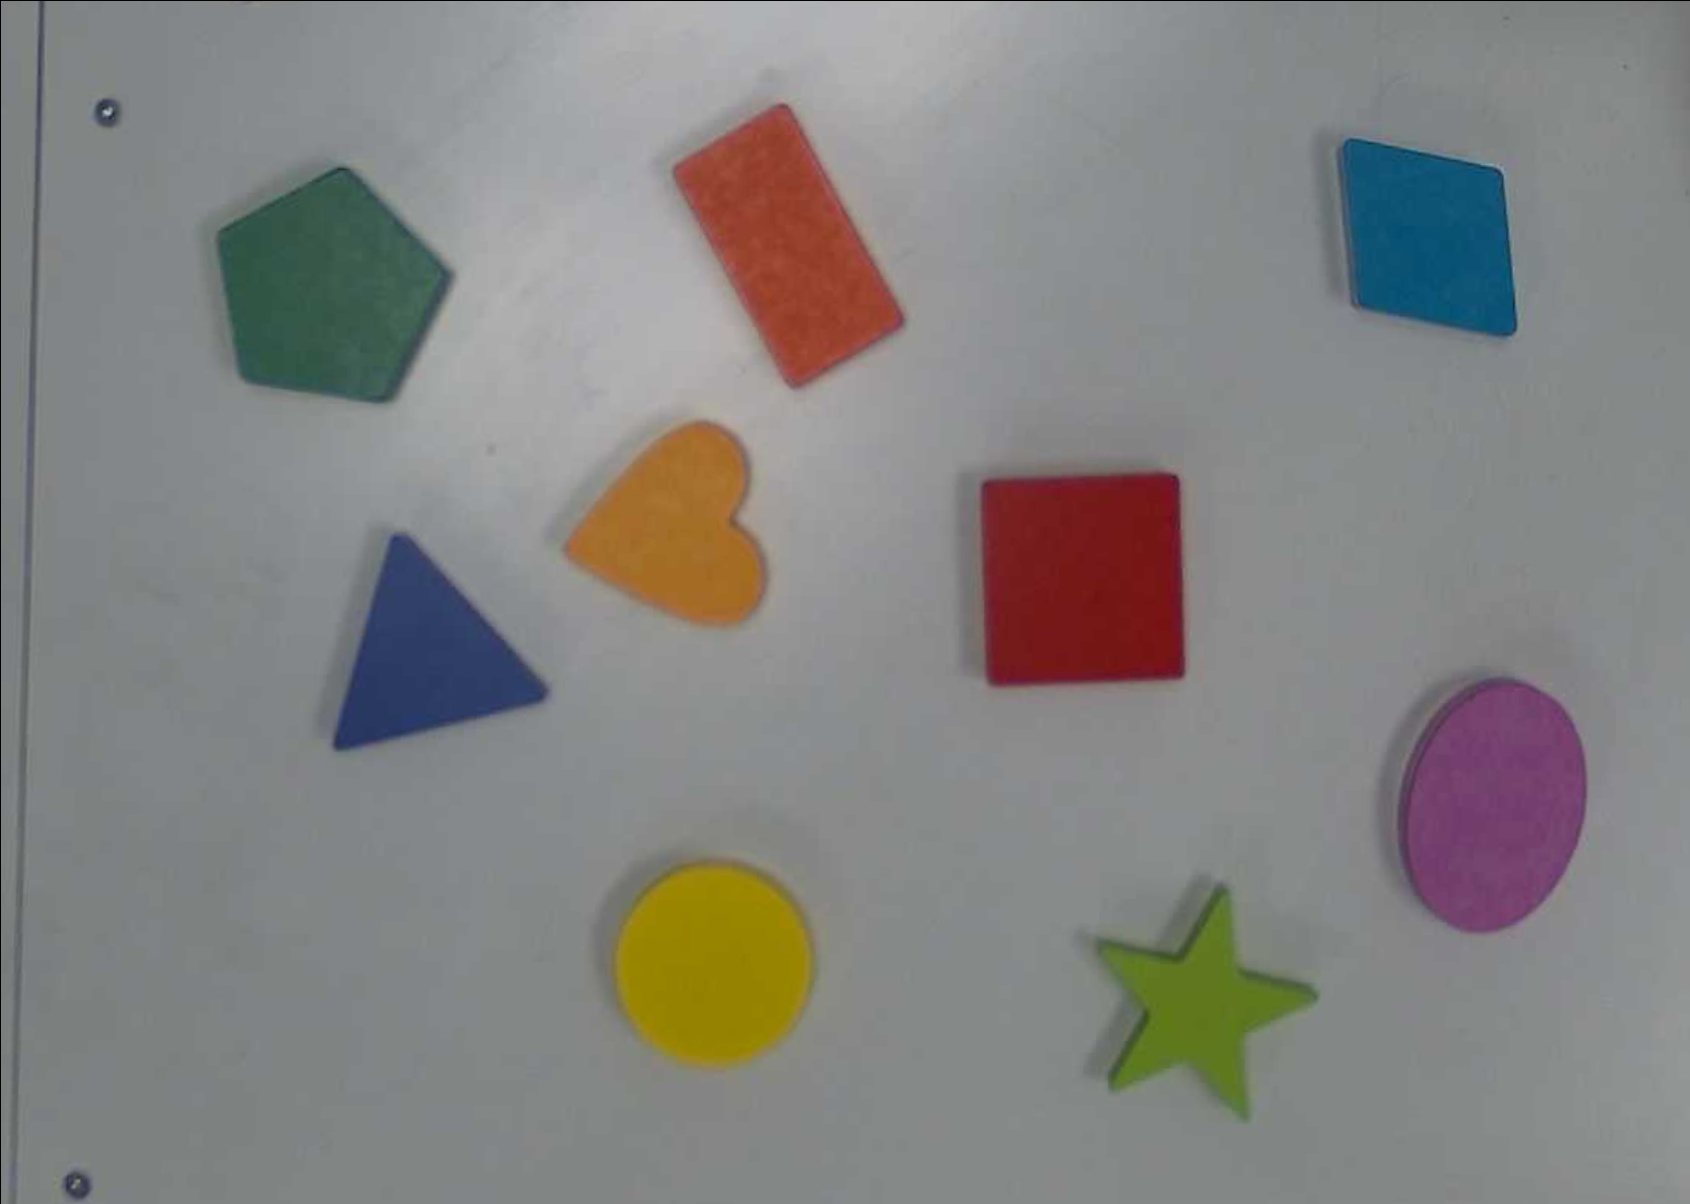Circle: (614, 863, 812, 1070)
Ellipse: (1403, 680, 1587, 934)
Heart: (560, 417, 765, 629)
Parallelogram: (1342, 137, 1521, 337)
Pentagon: (215, 168, 451, 404)
Rectangle: (668, 100, 907, 394)
Square: (980, 473, 1186, 687)
Star: (1097, 885, 1321, 1123)
Triangle: (334, 532, 550, 753)
